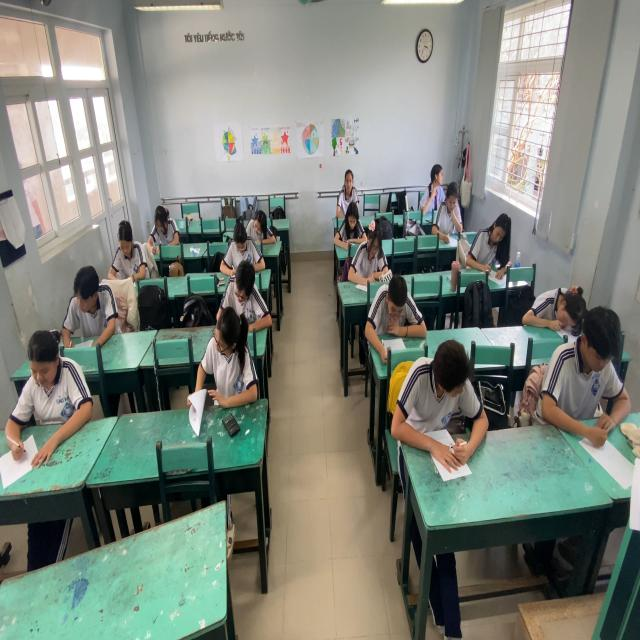not_cheating: (392, 320, 489, 473), (550, 298, 621, 444), (22, 325, 80, 447), (208, 305, 258, 410), (68, 260, 116, 346), (365, 263, 419, 337), (538, 262, 586, 338), (217, 257, 264, 327), (108, 216, 148, 284), (472, 206, 509, 278), (352, 220, 387, 290), (432, 175, 466, 237), (223, 217, 260, 272), (144, 197, 180, 253), (333, 195, 364, 250), (248, 200, 277, 255), (421, 152, 446, 213), (336, 163, 362, 216)
